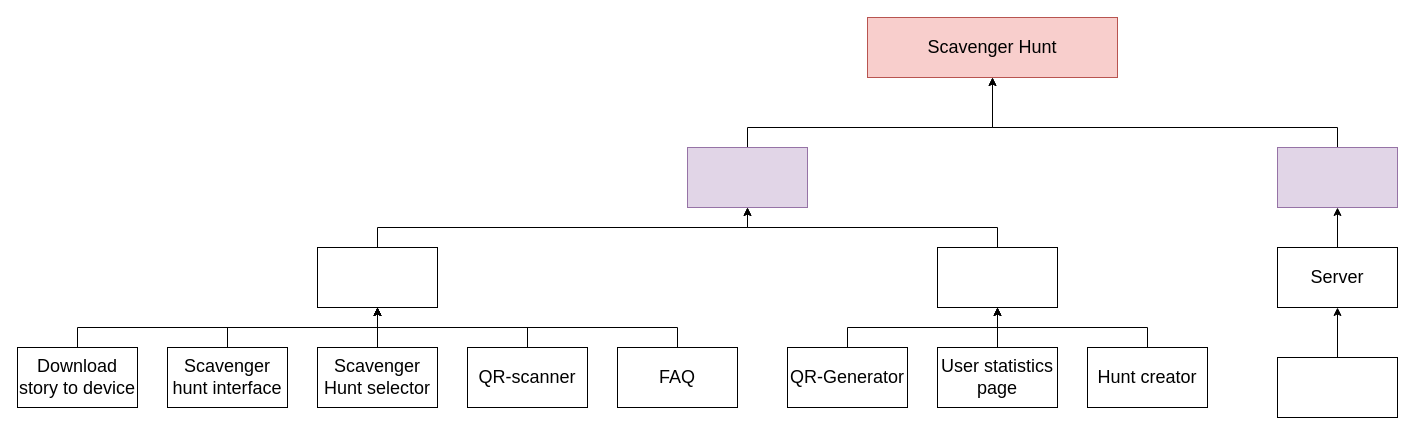
The diagram is 1415 pixels wide and 435 high, and some of its shapes have lost their labels. The shapes that lost their labels are listed below. From the top down, each one's box as (x1, y1, x2, y2) in pixels, then its label:
(686, 146, 808, 208): Frontend
(1276, 146, 1398, 208): Backend
(316, 246, 438, 308): App
(936, 246, 1058, 308): Web
(1276, 356, 1398, 418): Database
